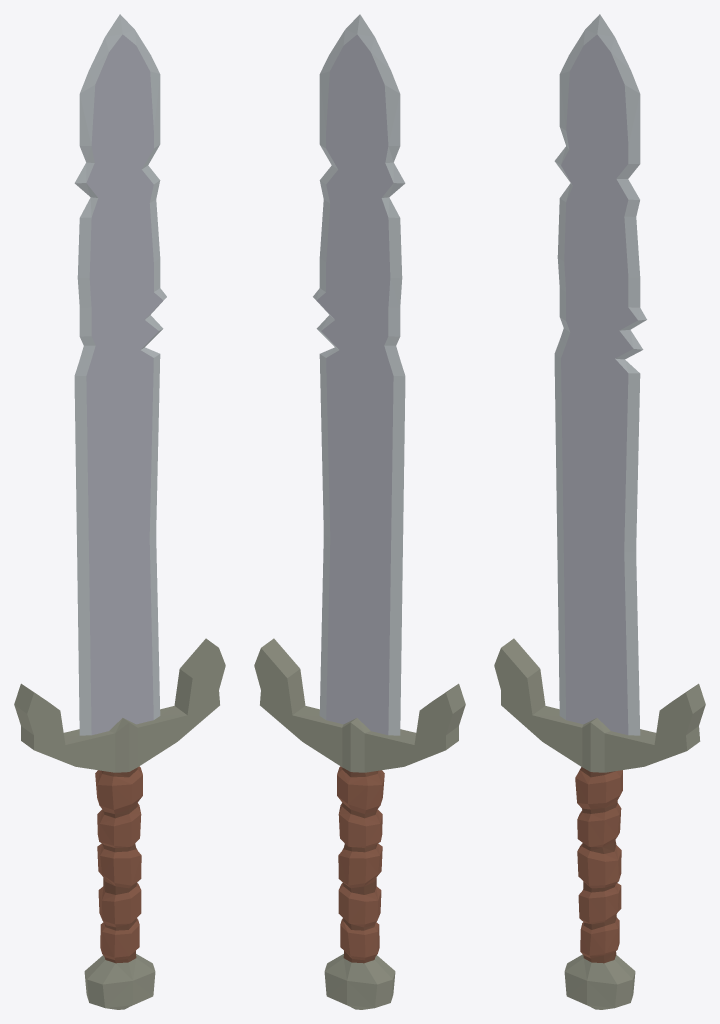
Rendered from Sword.glb.
The picture shows the model from 3 angles, left to right: view 1: azimuth 30°, elevation 25°; view 2: azimuth 150°, elevation 25°; view 3: azimuth 330°, elevation 25°; orthographic projection.
Visible parts, largest first — view 1: Sword; view 2: Sword; view 3: Sword.
Boxes of the visible parts, bbox=[...] form: Sword: bbox=[14, 14, 225, 1009]; Sword: bbox=[254, 14, 465, 1009]; Sword: bbox=[494, 14, 705, 1009].
Bounding box in the file's own units: 1.14 × 5.45 × 0.2609.
Materials: 1 (1 with a texture image).
